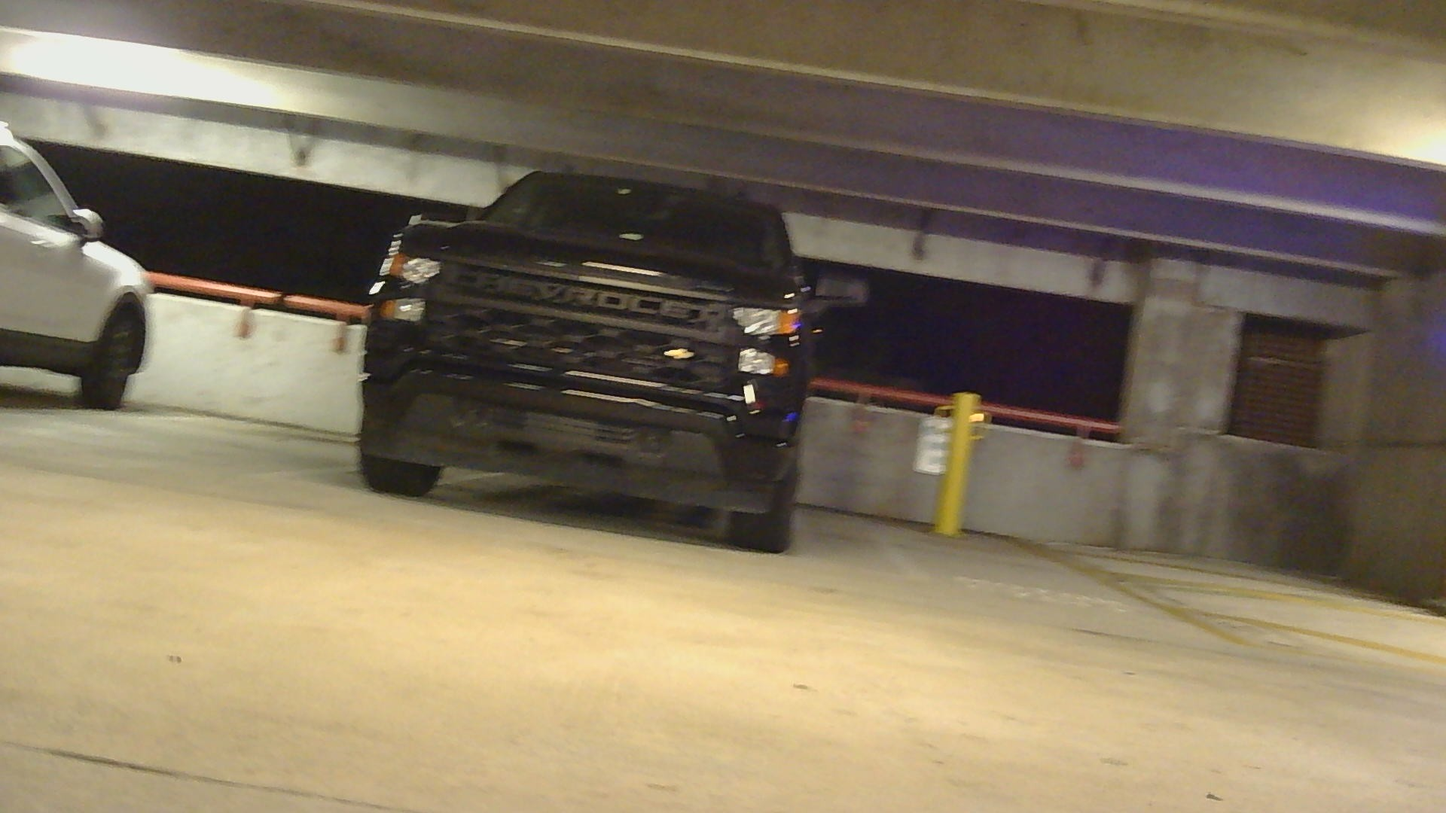empty_spot: (11, 308, 375, 492)
occupied_spot: (353, 144, 840, 550)
